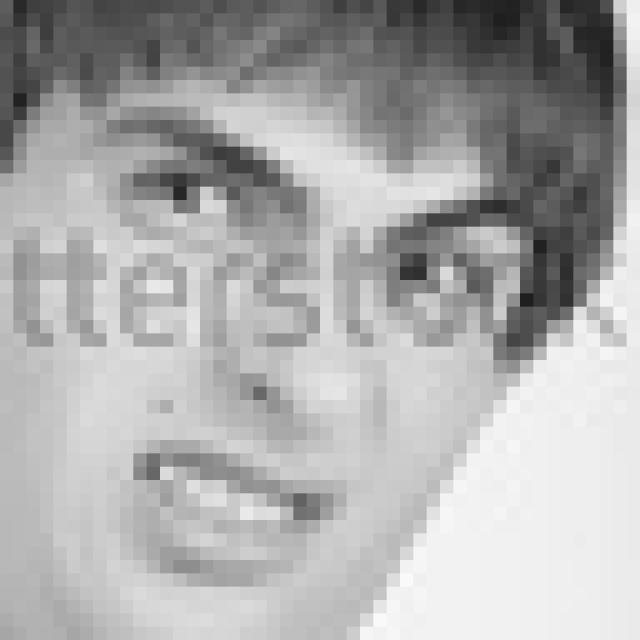disgust: (79, 99, 532, 586)
